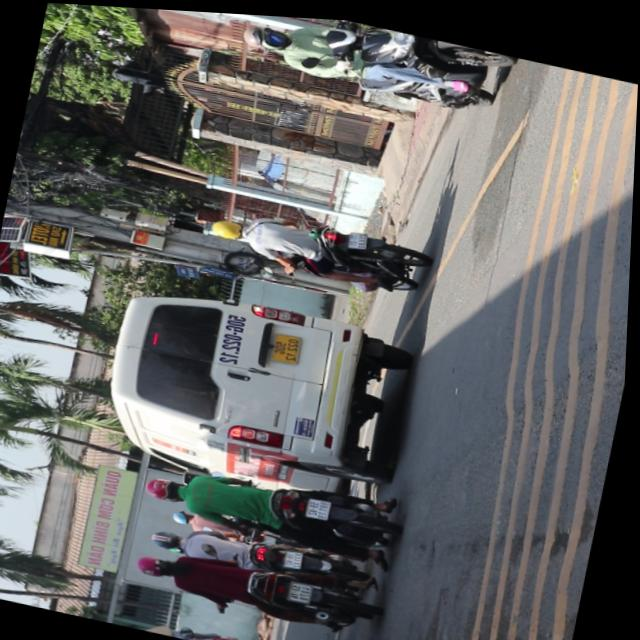helmet: (239, 17, 289, 50), (137, 547, 179, 577), (146, 471, 188, 501), (210, 212, 249, 238), (152, 524, 186, 549)
licenseplate: (140, 442, 411, 562), (230, 11, 515, 118), (130, 535, 388, 638), (202, 193, 437, 298), (141, 510, 384, 593)
nohelmet: (292, 578, 317, 600), (309, 493, 333, 515), (348, 226, 369, 246), (287, 546, 307, 565)
